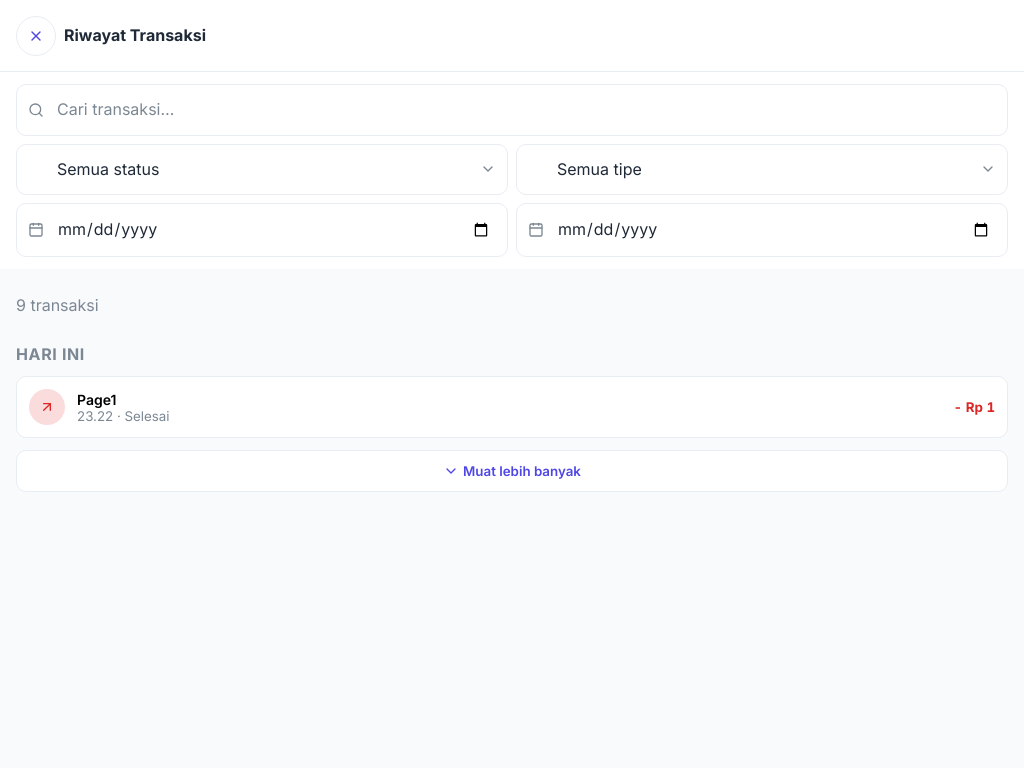
TransactionHistory (4B) › shows load-more when hasMore, appends next page
This screenshot has width=1024, height=768.
Expected: the text "Page1" is shown, left=77, top=390, right=116, bottom=408
Click the button "Muat lebih banyak" at (512, 471), box left=16, top=450, right=1008, bottom=492
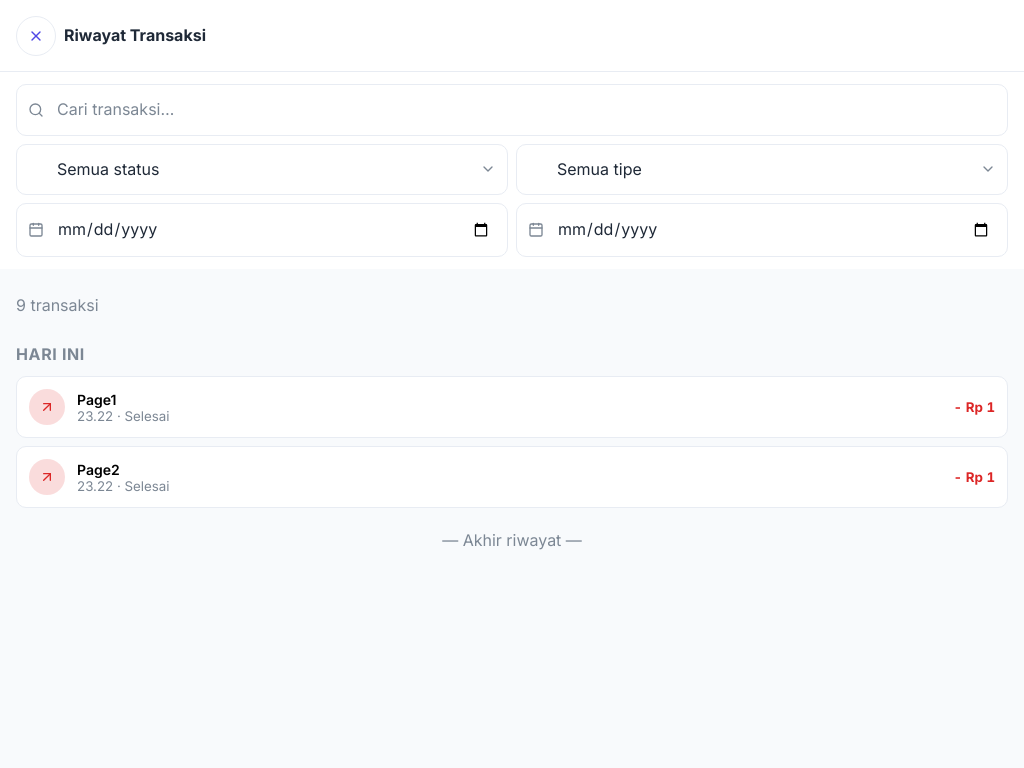
Expected: the text "Page2" is shown, left=77, top=460, right=120, bottom=478
